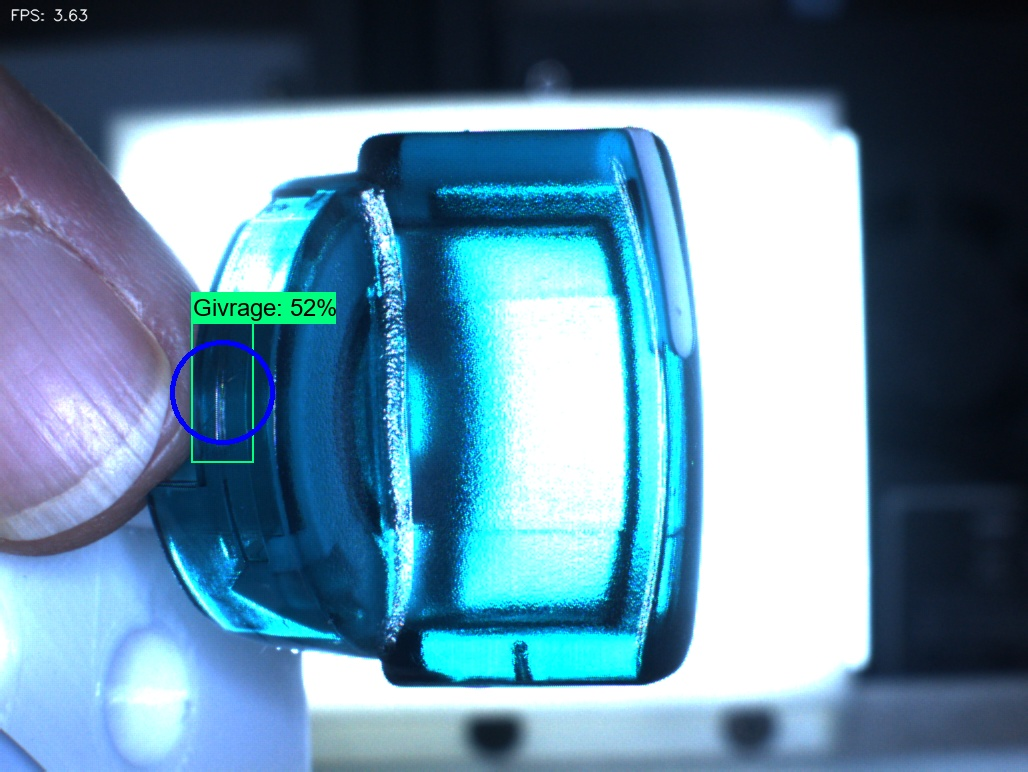Bulle: (487, 622, 572, 713)
